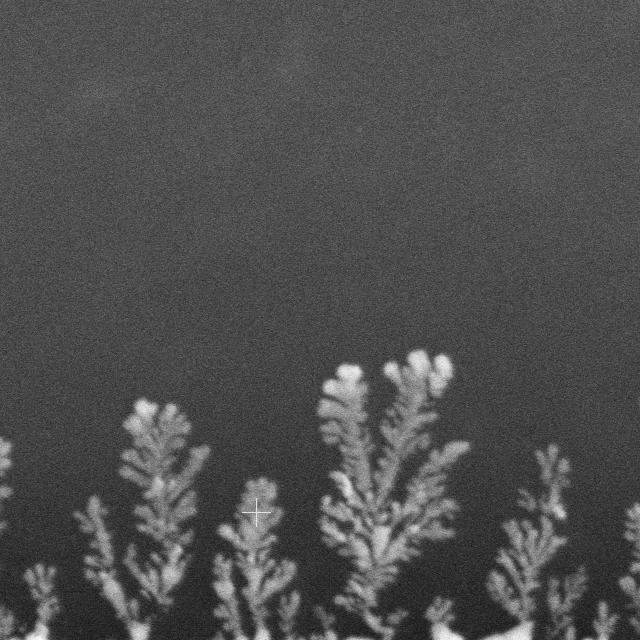Dendrite: (317, 349, 468, 640), (77, 398, 209, 640), (487, 443, 584, 637), (214, 478, 296, 640), (21, 563, 60, 640), (620, 577, 640, 640), (279, 590, 300, 640), (313, 606, 333, 640)
